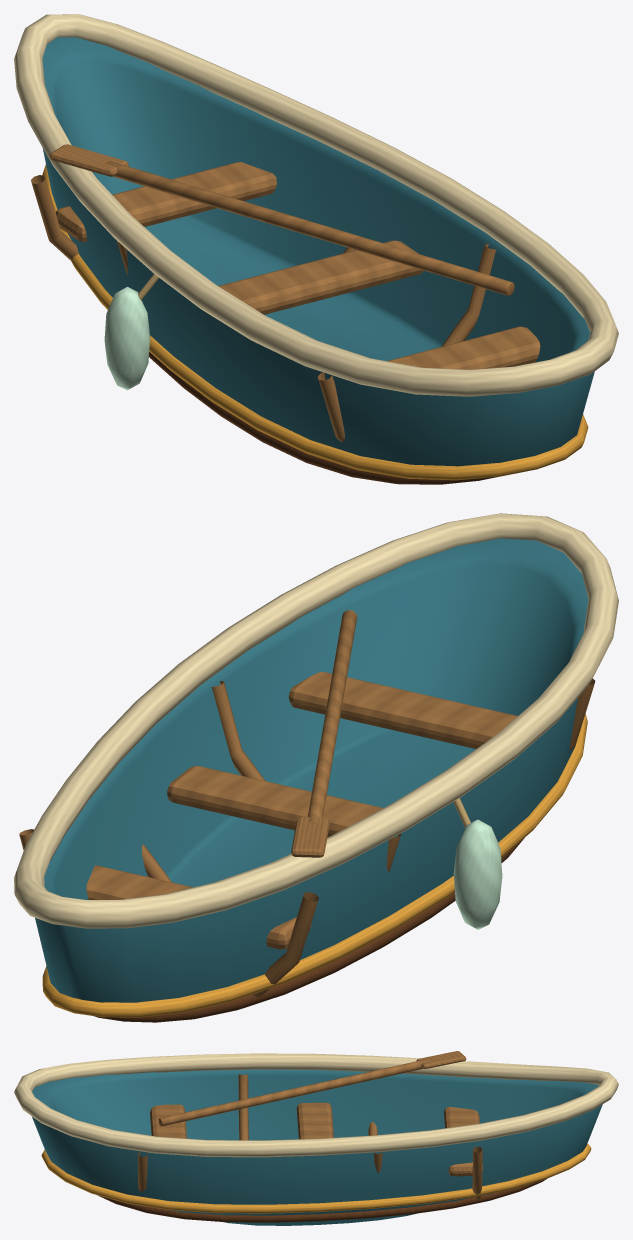
Rendered from Boat_Blue.fbx.
3 views of the same model, one above another, from view 1: azimuth 30°, elevation 25°; view 2: azimuth 150°, elevation 25°; view 3: azimuth 270°, elevation 25° (orthographic). The views are drawn at different scales.
Visible parts, largest first — view 1: Boat_Blue; view 2: Boat_Blue; view 3: Boat_Blue.
Boxes of the visible parts, box(x1,y1,x2,y2) form: Boat_Blue: box(14, 14, 618, 484); Boat_Blue: box(14, 513, 618, 1022); Boat_Blue: box(14, 1051, 618, 1225).
Size of the model in its own units: 283 by 690 by 152.
